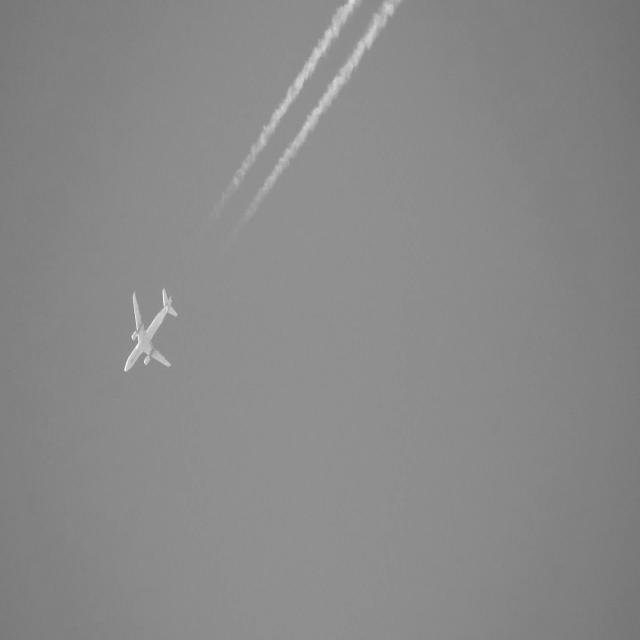aeroplane: (122, 284, 180, 378)
